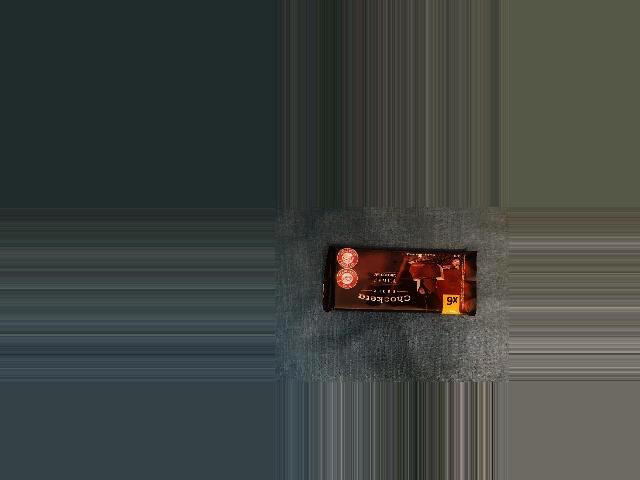chocolate: (324, 236, 478, 327)
